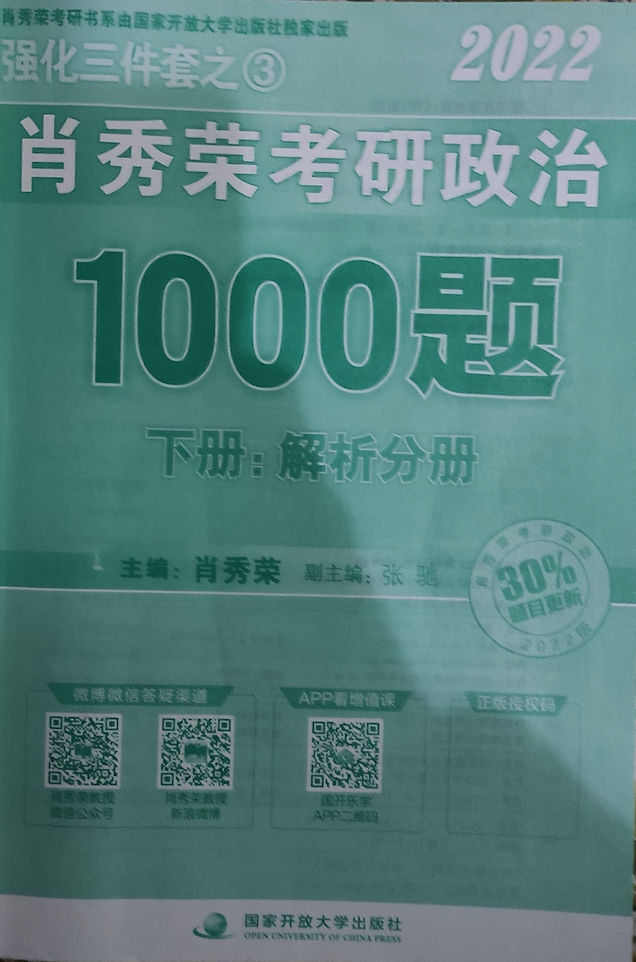Text_area: (64, 231, 572, 500), (5, 6, 608, 222), (43, 653, 424, 838), (130, 538, 457, 606), (476, 515, 608, 660), (191, 884, 424, 958)
